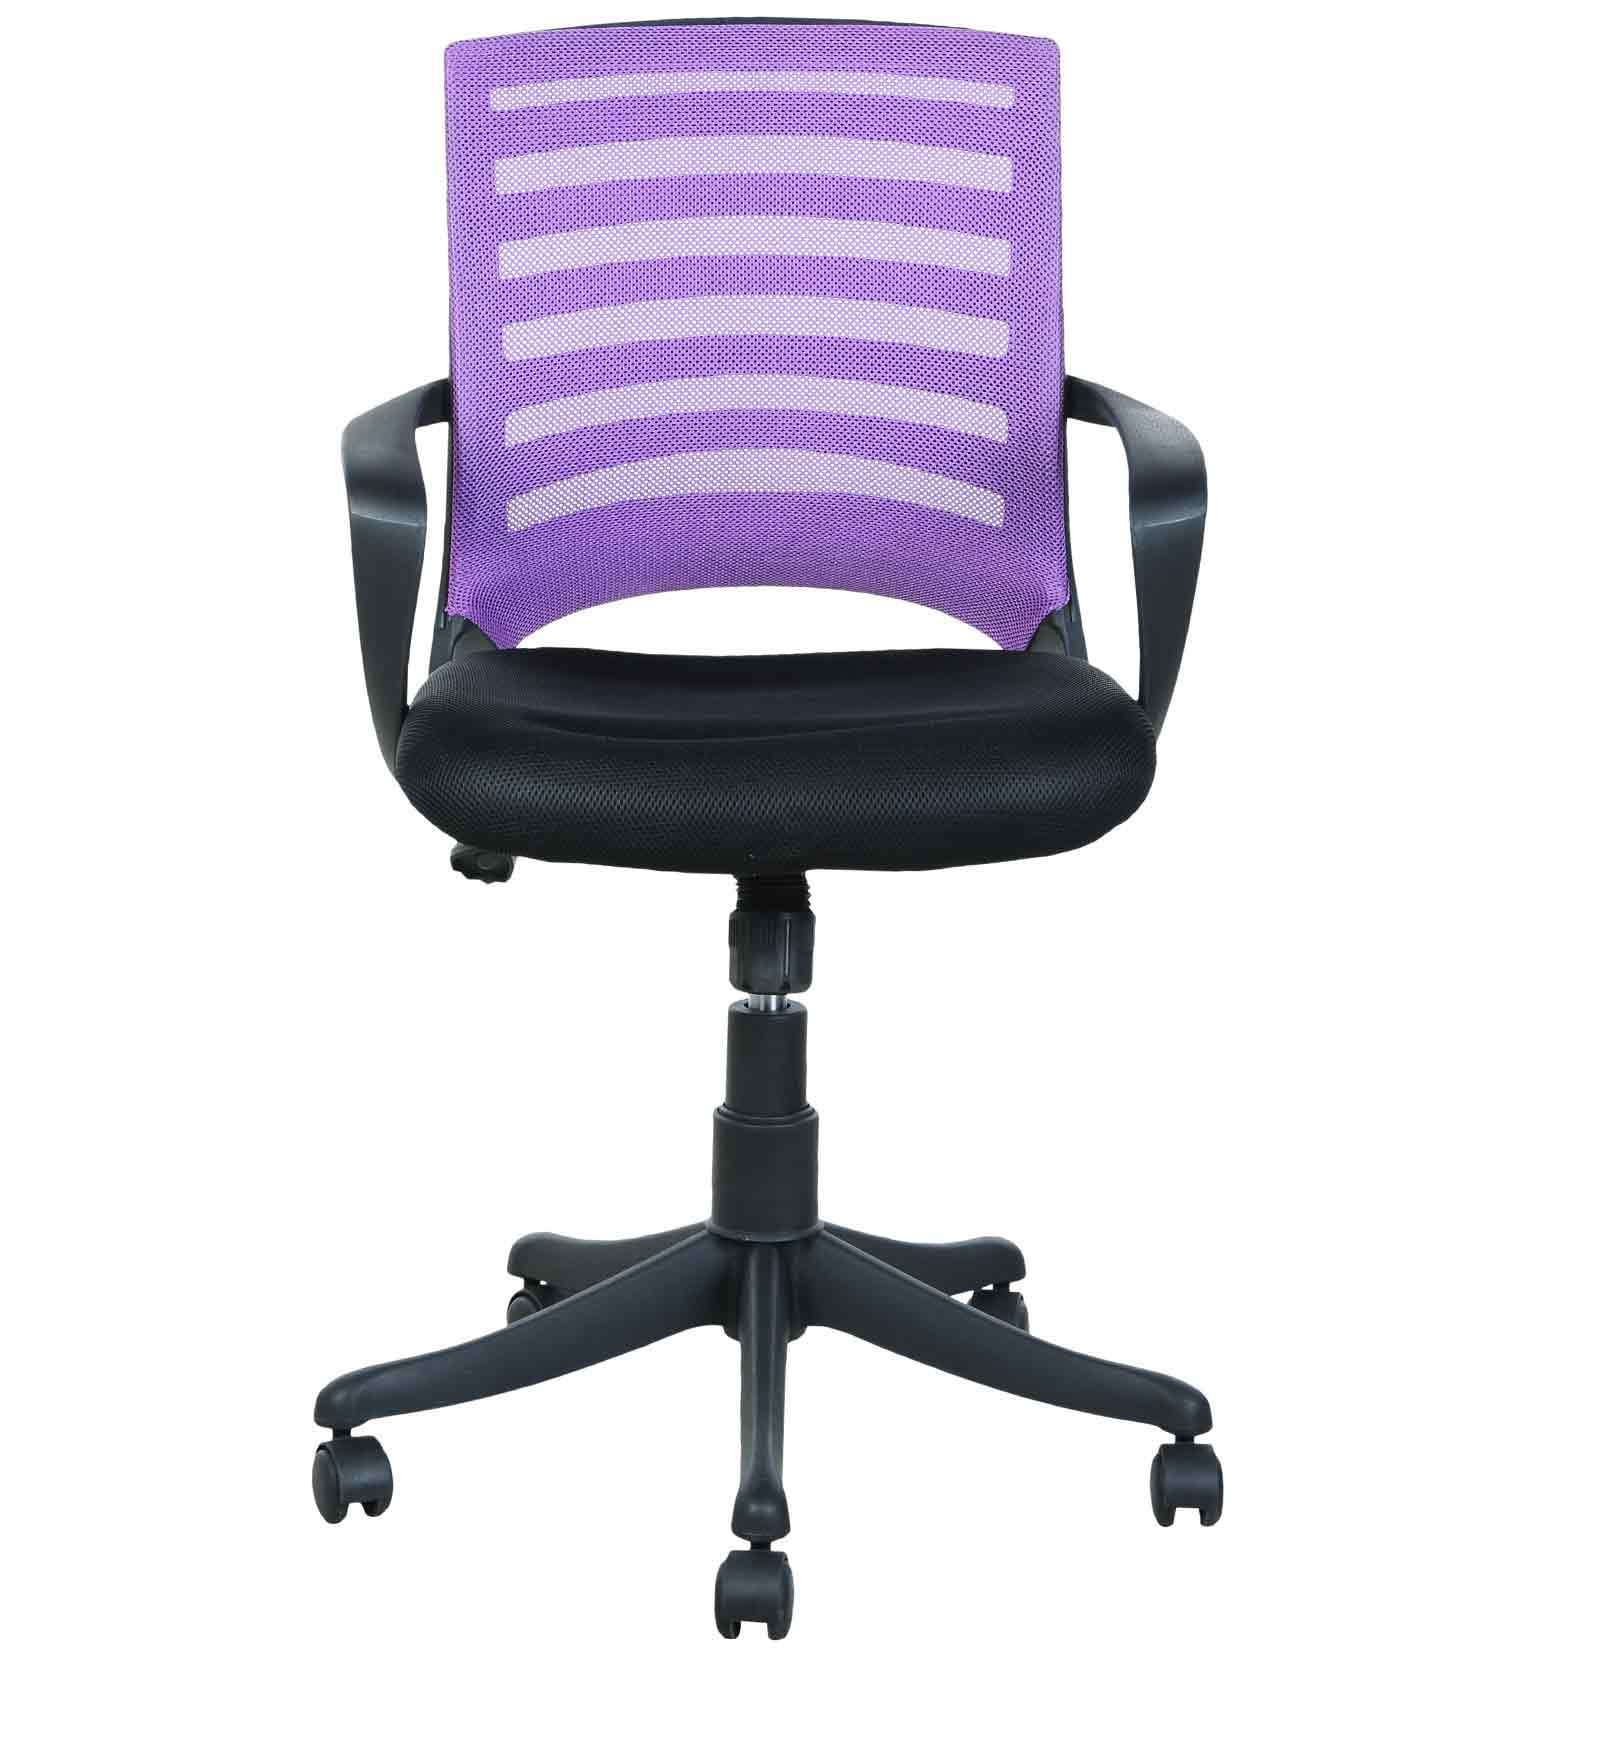Trendy Ergonomic Chair in Purple Colour by Parin: (313, 32, 1323, 1694)
